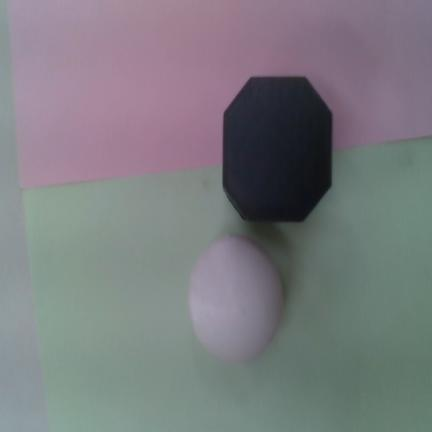Esfera: (188, 235, 284, 363)
Prisma_hexagonal: (222, 76, 332, 222)
